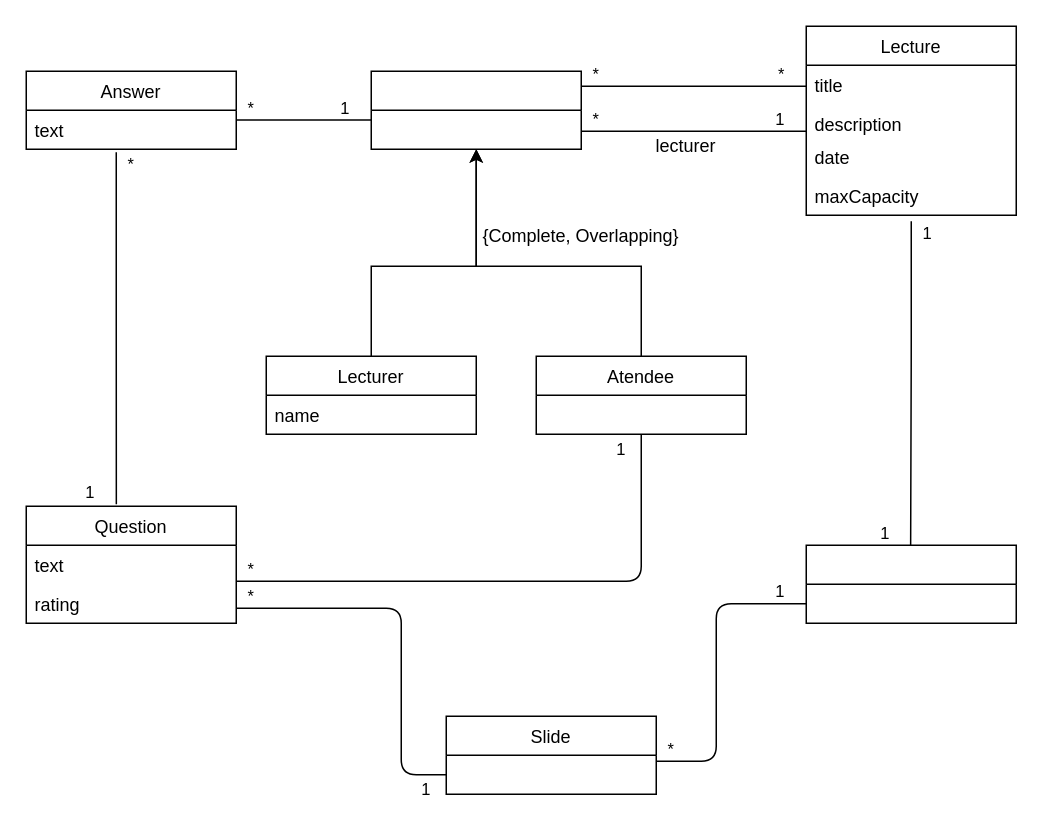
Some shapes in this 1043 by 828 pixel diagram are drawn without their labels. Each missing label, with the centre of its shape:
"Slides" goes at (x=910, y=583).
"User" goes at (x=475, y=109).
